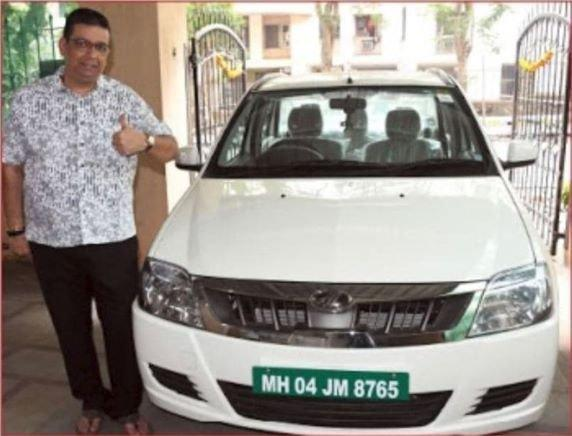Liscence Plate: (256, 365, 409, 405)
